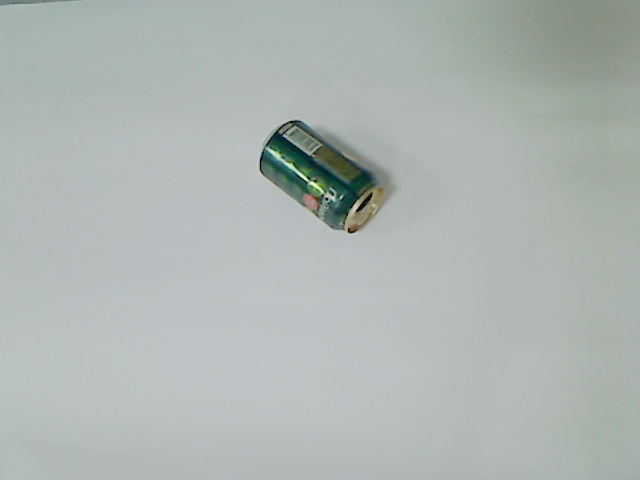can: (256, 118, 386, 235)
